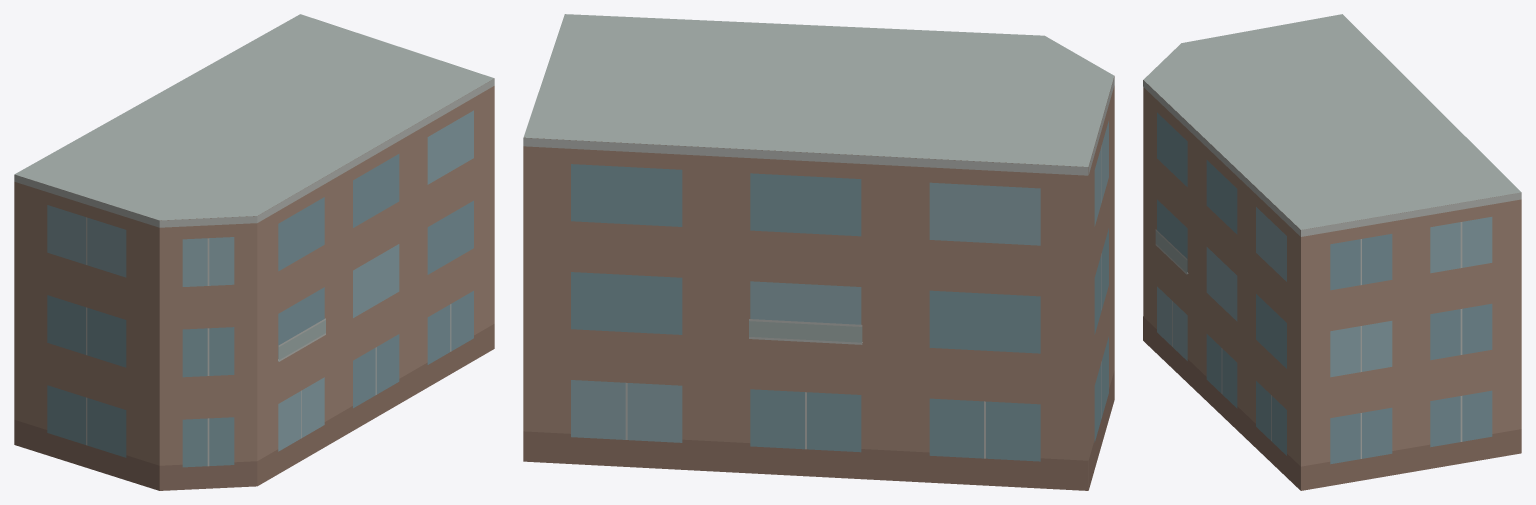
The model's file is survey-upis-32920875.glb.
3 renders of one model, left to right at view 1: azimuth 30°, elevation 25°; view 2: azimuth 150°, elevation 25°; view 3: azimuth 270°, elevation 25°, orthographic. The views are drawn at different scales.
Parts seen in each view (by area): view 1: survey-upis-32920875.tmp; view 2: survey-upis-32920875.tmp; view 3: survey-upis-32920875.tmp.
Part boxes in pixels (x1=…): survey-upis-32920875.tmp: x1=14, y1=14, x2=494, y2=490; survey-upis-32920875.tmp: x1=523, y1=14, x2=1114, y2=490; survey-upis-32920875.tmp: x1=1143, y1=14, x2=1521, y2=490.
Size of the model in its own units: 16.17 by 9.1 by 11.97.
